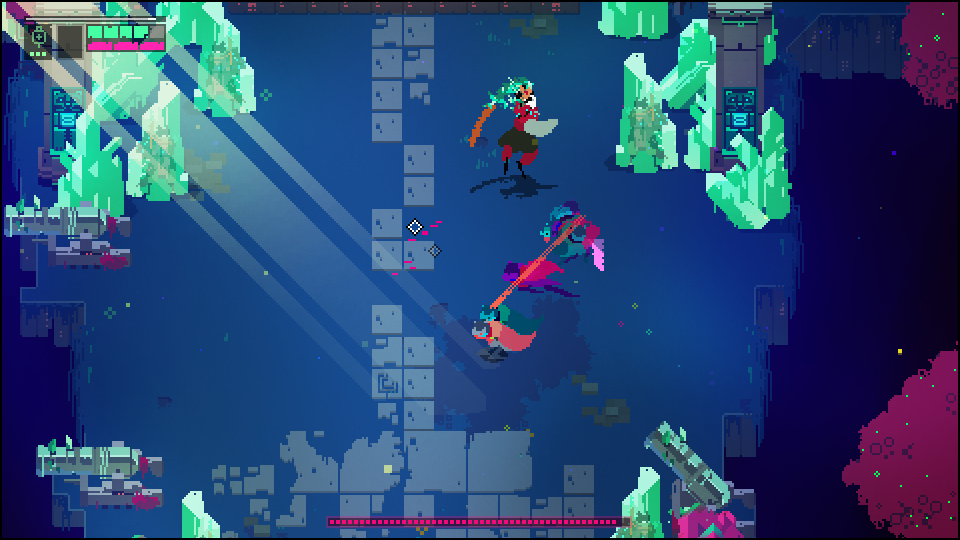hanged_man: (477, 71, 563, 187)
player: (470, 314, 544, 357)
